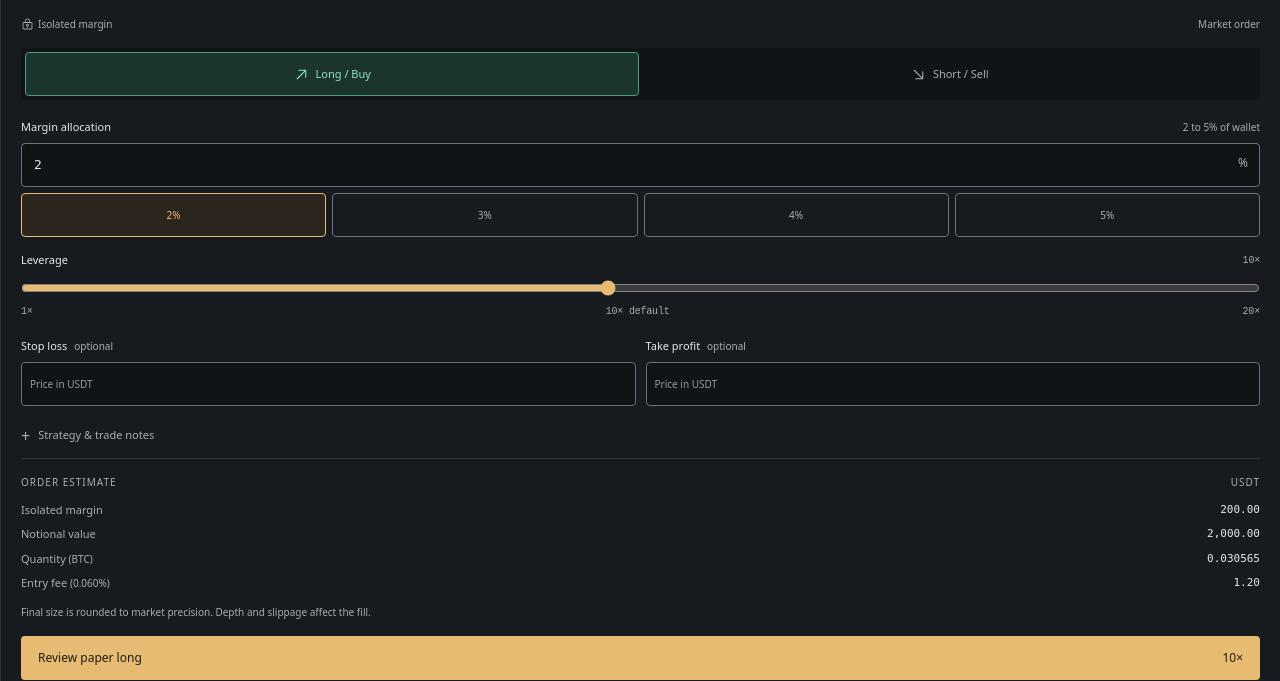
it: requires review and never submits an order automatically
The image size is (1280, 681).
Expected: the number field labelled "Margin allocation" holds "2", [21, 143, 1260, 187]
Expected: the slider labelled "Leverage" holds "10", [21, 276, 1260, 300]
Click the button "Review paper long 10×" at (77, 657), box [21, 636, 1260, 680]
(page scrolled)
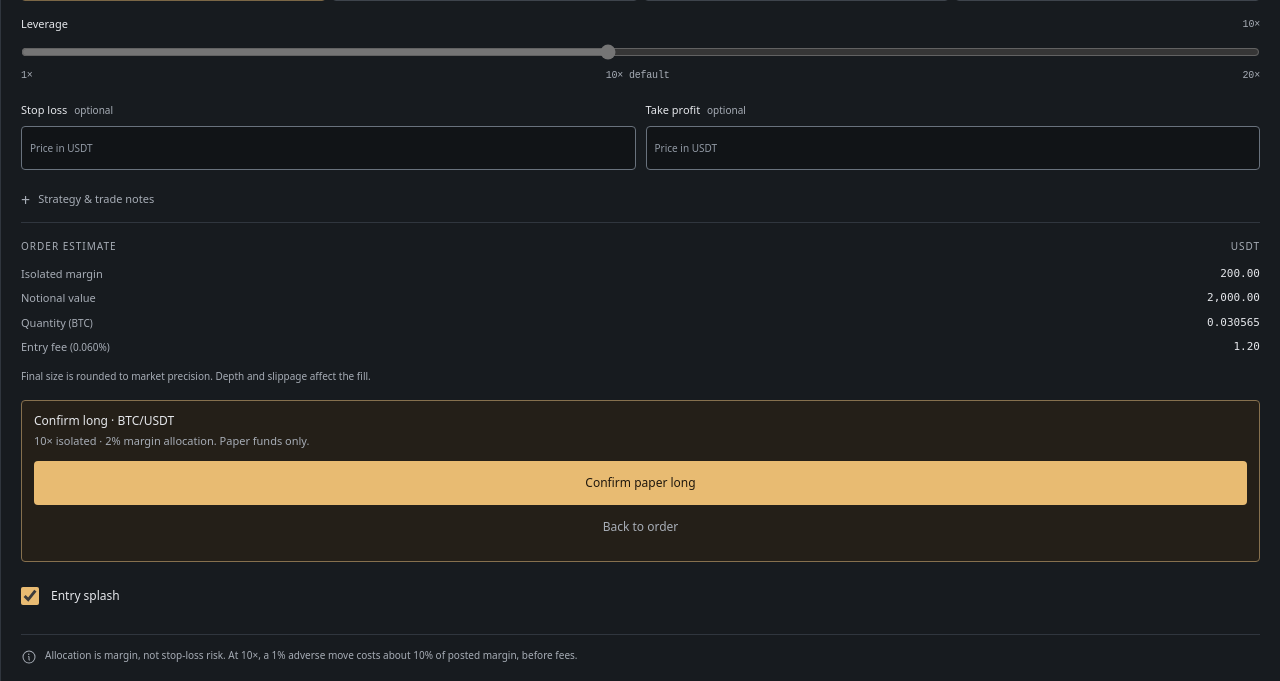
Result: the button "Confirm paper long" is shown at [34, 461, 1247, 505]
